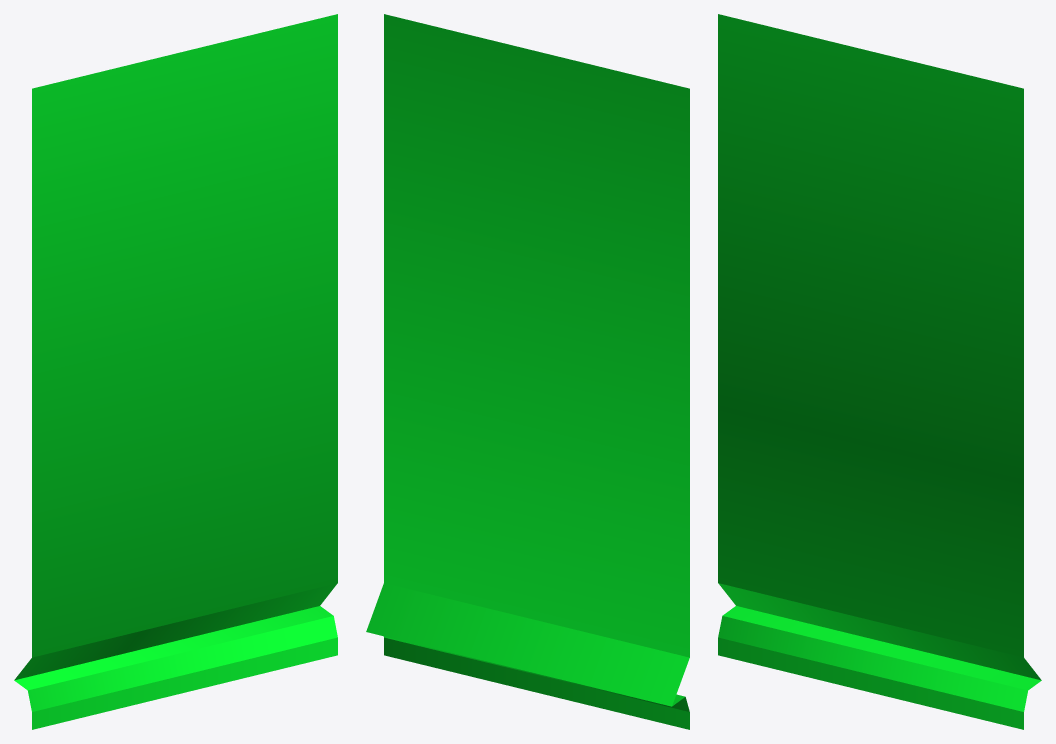
The model's file is 3x6m_straightwall.FBX.
The picture shows the model from 3 angles, left to right: view 1: azimuth 30°, elevation 25°; view 2: azimuth 150°, elevation 25°; view 3: azimuth 330°, elevation 25°; orthographic projection.
Parts seen in each view (by area): view 1: 3x6m_straight; view 2: 3x6m_straight; view 3: 3x6m_straight.
Boxes of the visible parts, left/top/right/bottom form: 3x6m_straight: left=14, top=14, right=337, bottom=729; 3x6m_straight: left=366, top=14, right=689, bottom=729; 3x6m_straight: left=718, top=14, right=1041, bottom=729.
Bounding box in the file's own units: 300 × 600 × 30.42.
